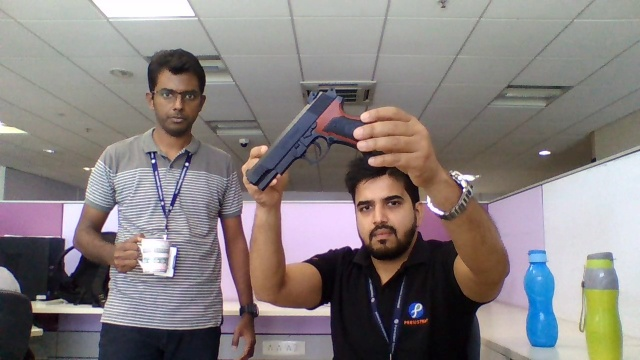gun: (272, 90, 353, 166)
